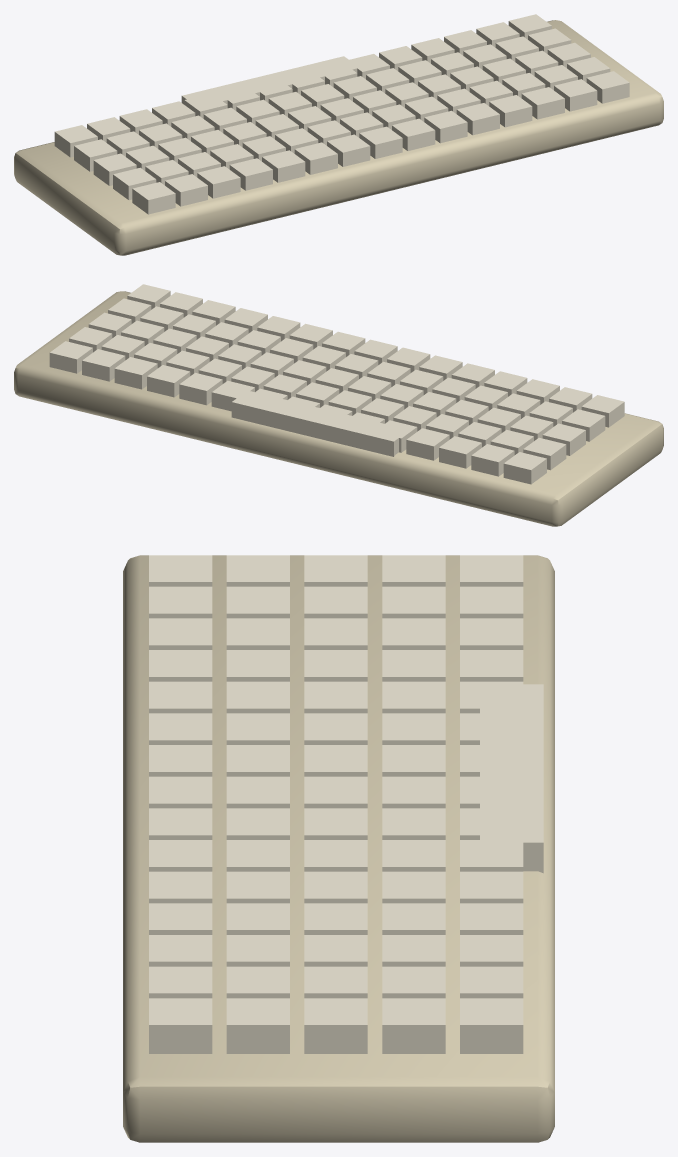
The model's file is keyboard.glb.
The picture shows the model from 3 angles, top to bottom: view 1: azimuth 30°, elevation 25°; view 2: azimuth 150°, elevation 25°; view 3: azimuth 270°, elevation 25°; orthographic projection. The views are drawn at different scales.
Parts seen in each view (by area): view 1: keyboard; view 2: keyboard; view 3: keyboard.
Boxes of the visible parts, x1,y1,x2,y2 form: keyboard: [14, 14, 663, 255]; keyboard: [14, 284, 663, 526]; keyboard: [123, 555, 554, 1142].
Bounding box in the file's own units: 0.44 × 0.036 × 0.15.
